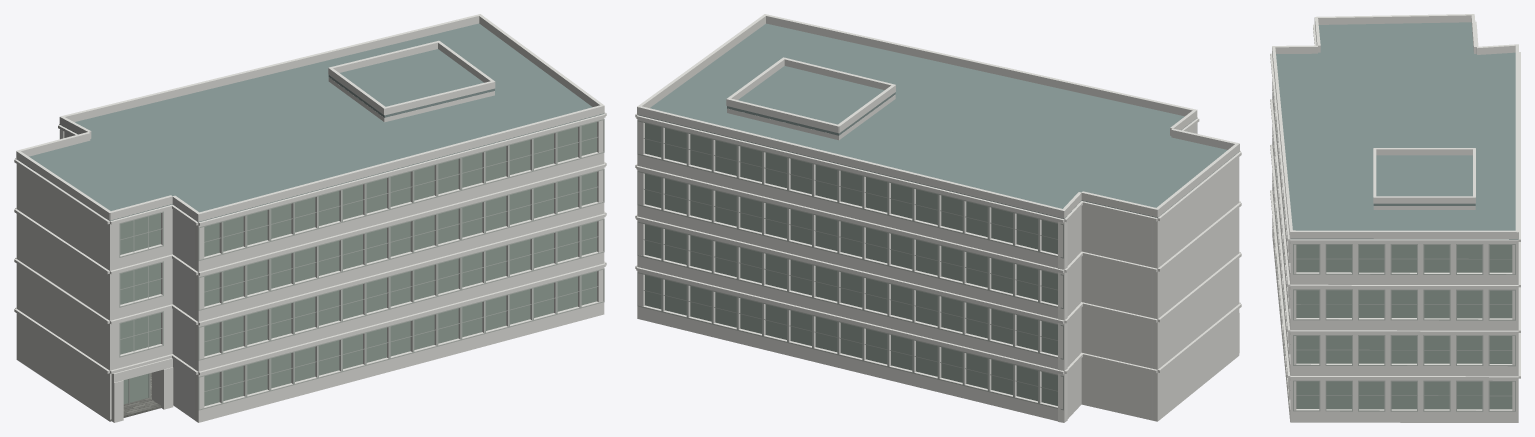
The picture shows the model from 3 angles, left to right: view 1: azimuth 30°, elevation 25°; view 2: azimuth 150°, elevation 25°; view 3: azimuth 270°, elevation 25°; orthographic projection. The views are drawn at different scales.
Visible parts, largest first — view 1: asiaticResearch__cream, asiaticResearch__roof, asiaticResearch__glass, asiaticResearch__frame; view 2: asiaticResearch__cream, asiaticResearch__roof, asiaticResearch__glass, asiaticResearch__frame; view 3: asiaticResearch__roof, asiaticResearch__cream, asiaticResearch__glass, asiaticResearch__frame.
Boxes of the visible parts, x1,y1,x2,y2 form: asiaticResearch__cream: (14,14,606,422); asiaticResearch__roof: (17,23,604,222); asiaticResearch__glass: (120,122,596,406); asiaticResearch__frame: (59,119,604,410); asiaticResearch__cream: (635,14,1241,422); asiaticResearch__roof: (637,23,1238,218); asiaticResearch__glass: (645,123,1057,405); asiaticResearch__frame: (637,120,1197,410); asiaticResearch__roof: (1276,22,1518,239); asiaticResearch__cream: (1270,14,1520,422); asiaticResearch__glass: (1296,244,1512,409); asiaticResearch__frame: (1272,90,1515,411).
Bounding box in the file's own units: 35.68 × 14.89 × 17.2.
Materials: 5 (1 with a texture image).
